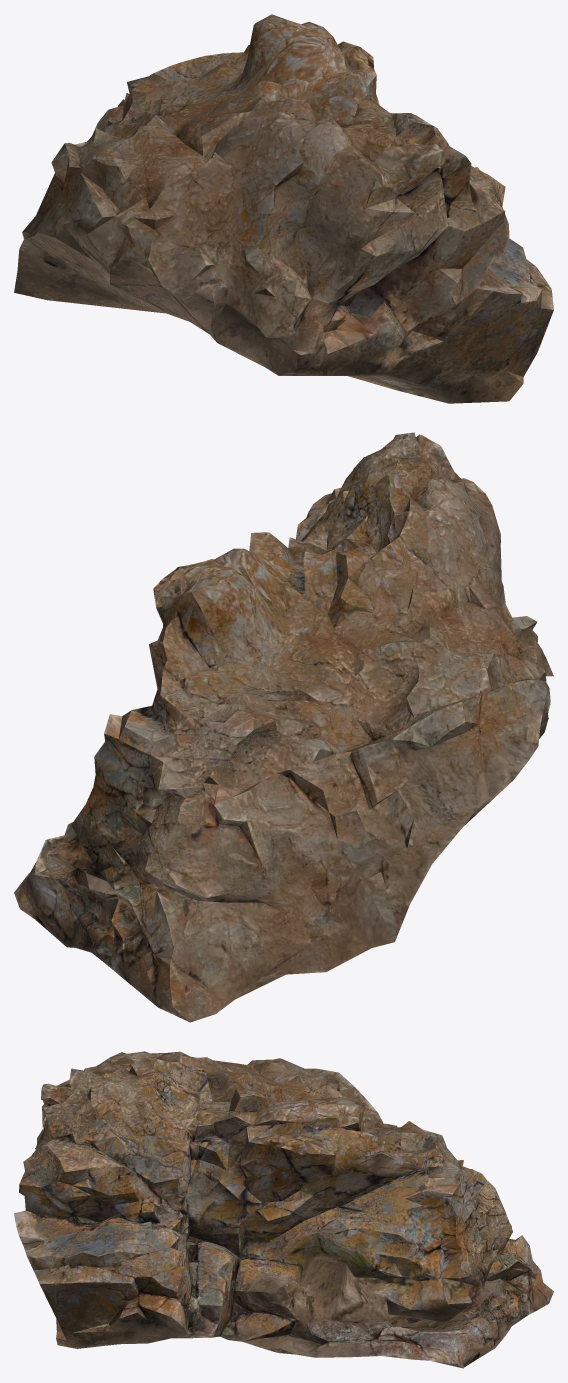
The model's file is boulder_large.glb.
3 renders of one model, top to bottom at view 1: azimuth 30°, elevation 25°; view 2: azimuth 150°, elevation 25°; view 3: azimuth 270°, elevation 25°, orthographic. The views are drawn at different scales.
Visible parts, largest first — view 1: boulder_large; view 2: boulder_large; view 3: boulder_large.
Boxes of the visible parts, box(x1,y1,x2,y2) form: boulder_large: box(14, 14, 553, 403); boulder_large: box(14, 432, 553, 1022); boulder_large: box(14, 1051, 553, 1368).
Bounding box in the file's own units: 1.28 × 0.9959 × 1.83.
Materials: 1 (1 with a texture image).
